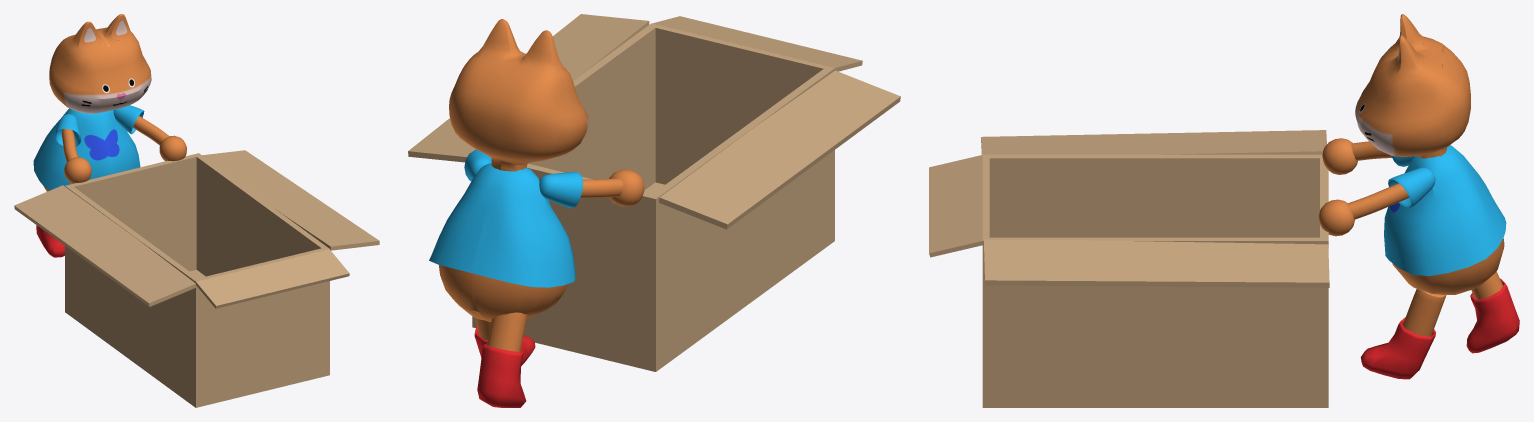
File: Cat_v5.glb
The picture shows the model from 3 angles, left to right: view 1: azimuth 30°, elevation 25°; view 2: azimuth 150°, elevation 25°; view 3: azimuth 270°, elevation 25°; orthographic projection. The views are drawn at different scales.
Parts seen in each view (by area): view 1: caja, Cube.003, head, Cube.001, Body, Cube.002, arms, shirt, Leg_R; view 2: caja, Body, Cube.003, head, Cube.001, Leg_R, Cube.002, shirt, arms, Leg_L; view 3: caja, Cube.001, Body, head, Cube.003, Cube.002, Leg_L, arms, Leg_R, shirt.
Part boxes in pixels (left/top/right/bottom): caja: left=65, top=153, right=329, bottom=407; Cube.003: left=14, top=185, right=196, bottom=306; head: left=49, top=14, right=151, bottom=113; Cube.001: left=202, top=150, right=379, bottom=250; Body: left=33, top=108, right=140, bottom=191; Cube.002: left=196, top=249, right=349, bottom=308; arms: left=62, top=116, right=186, bottom=183; shirt: left=55, top=105, right=144, bottom=146; Leg_R: left=36, top=225, right=64, bottom=257; caja: left=472, top=23, right=834, bottom=371; Body: left=429, top=162, right=575, bottom=321; Cube.003: left=658, top=70, right=900, bottom=229; head: left=449, top=19, right=588, bottom=171; Cube.001: left=408, top=14, right=649, bottom=162; Leg_R: left=477, top=312, right=527, bottom=407; Cube.002: left=653, top=16, right=862, bottom=71; shirt: left=464, top=149, right=582, bottom=208; arms: left=580, top=169, right=644, bottom=206; Leg_L: left=474, top=317, right=535, bottom=366; caja: left=982, top=154, right=1328, bottom=407; Cube.001: left=983, top=239, right=1329, bottom=287; Body: left=1384, top=145, right=1506, bottom=294; head: left=1355, top=14, right=1470, bottom=158; Cube.003: left=981, top=130, right=1326, bottom=154; Cube.002: left=929, top=155, right=982, bottom=257; Leg_L: left=1360, top=289, right=1446, bottom=379; arms: left=1318, top=138, right=1409, bottom=236; Leg_R: left=1466, top=271, right=1519, bottom=353; shirt: left=1388, top=156, right=1435, bottom=208.
Bounding box in the file's own units: 1.36 × 1.41 × 2.22.
Materials: 6 (2 with a texture image).
